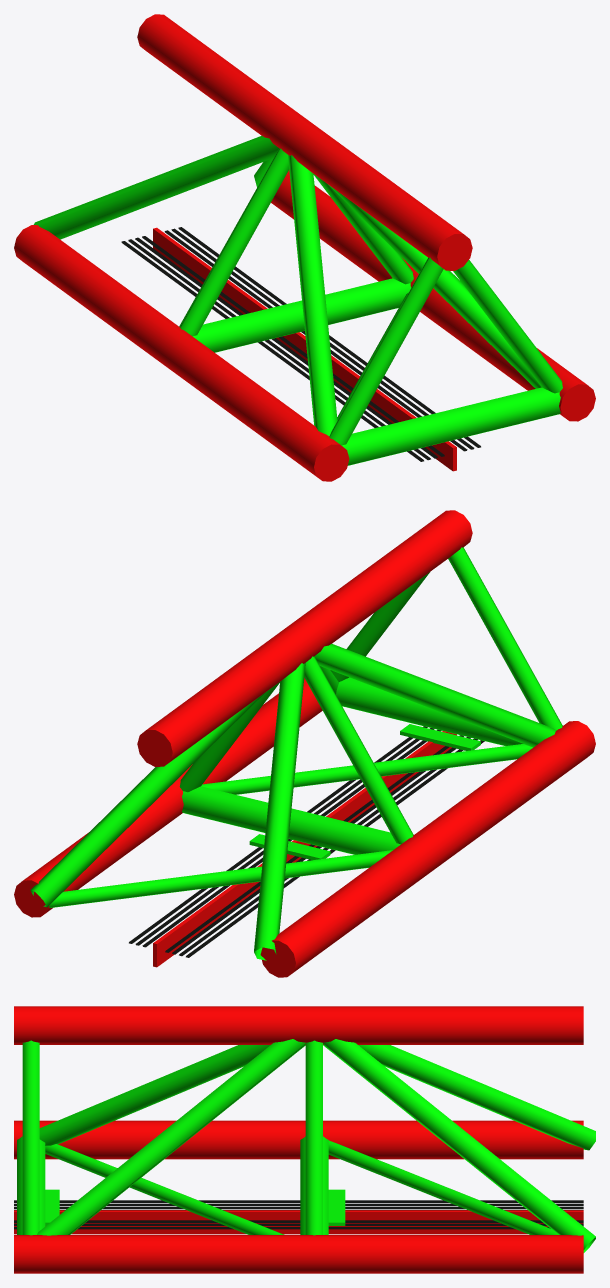
Rendered from track_planecoaster_ref.fbx.
3 renders of one model, top to bottom at view 1: azimuth 30°, elevation 25°; view 2: azimuth 150°, elevation 25°; view 3: azimuth 270°, elevation 25°, orthographic. The views are drawn at different scales.
Parts seen in each view (by area): view 1: track_planecoaster_ref; view 2: track_planecoaster_ref; view 3: track_planecoaster_ref.
Part boxes in pixels (x1,y1,x2,y2): track_planecoaster_ref: (14, 14, 595, 481); track_planecoaster_ref: (14, 510, 595, 977); track_planecoaster_ref: (14, 1006, 595, 1273).
Size of the model in its own units: 0.5431 by 0.4363 by 1.02.
